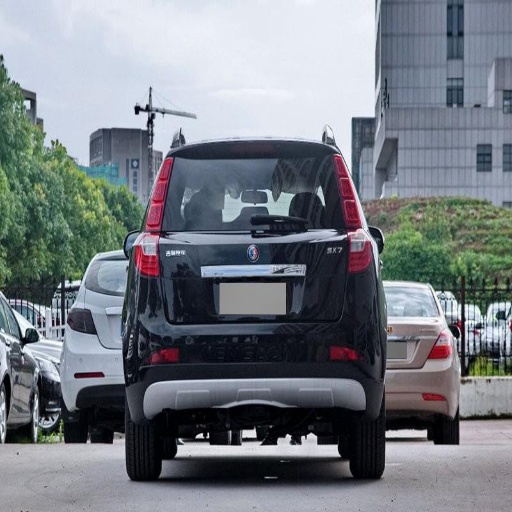back_bumper: (118, 267, 452, 415)
tailgate: (170, 284, 333, 326)
trunk: (150, 232, 346, 356)
